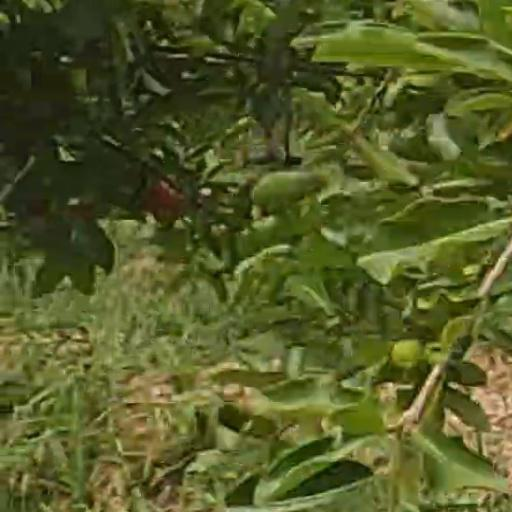acerola: (149, 181, 180, 216)
